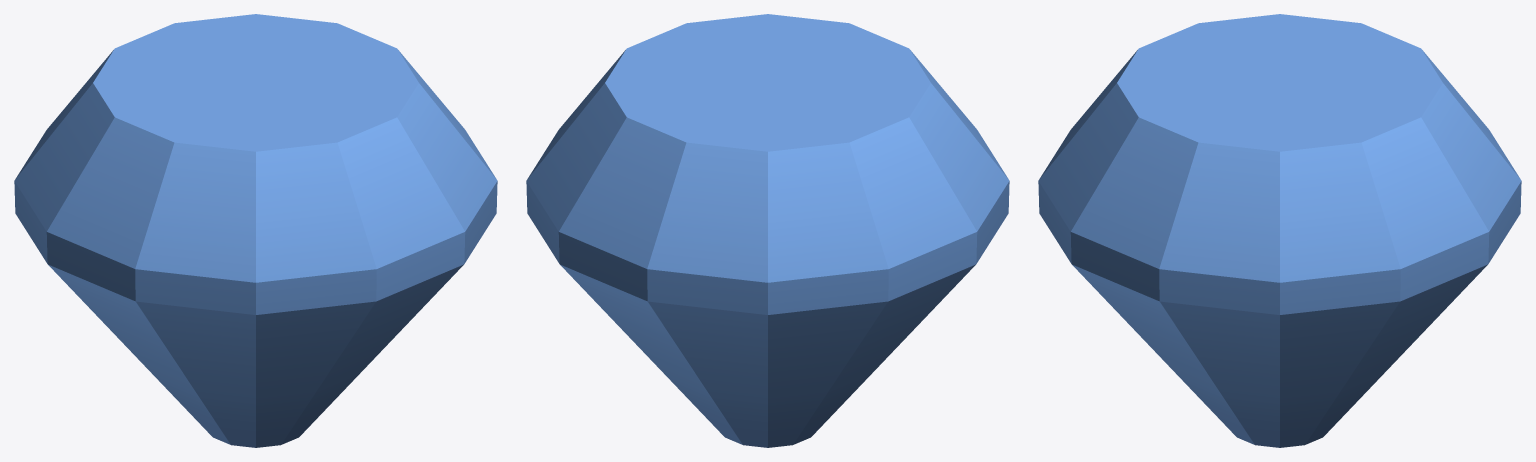
The model's file is Crystal007.fbx.
3 views of the same model, side by side, from view 1: azimuth 30°, elevation 25°; view 2: azimuth 150°, elevation 25°; view 3: azimuth 270°, elevation 25° (orthographic).
Parts seen in each view (by area): view 1: Crystal007; view 2: Crystal007; view 3: Crystal007.
Boxes of the visible parts, x1,y1,x2,y2 form: Crystal007: (14, 14, 497, 447); Crystal007: (526, 14, 1009, 447); Crystal007: (1038, 14, 1521, 447).
Bounding box in the file's own units: 91.8 × 72.12 × 91.8.
